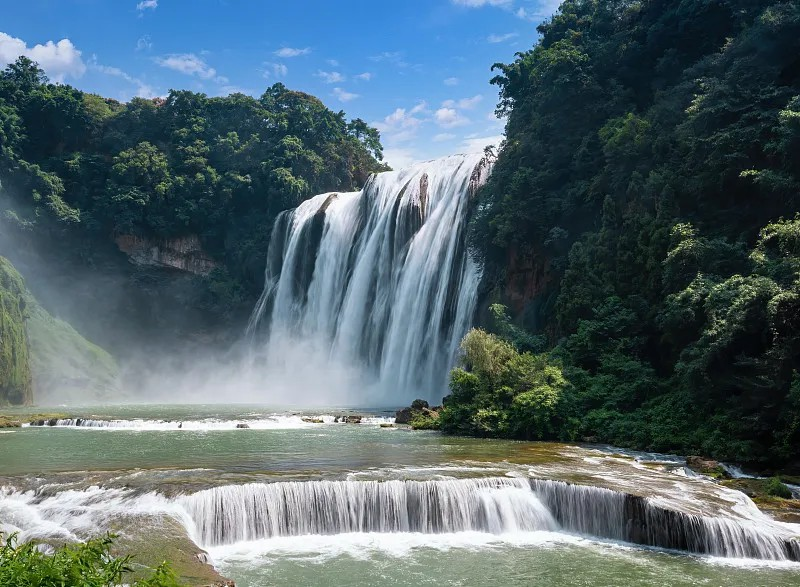Huangguoshu: (248, 146, 482, 408)
